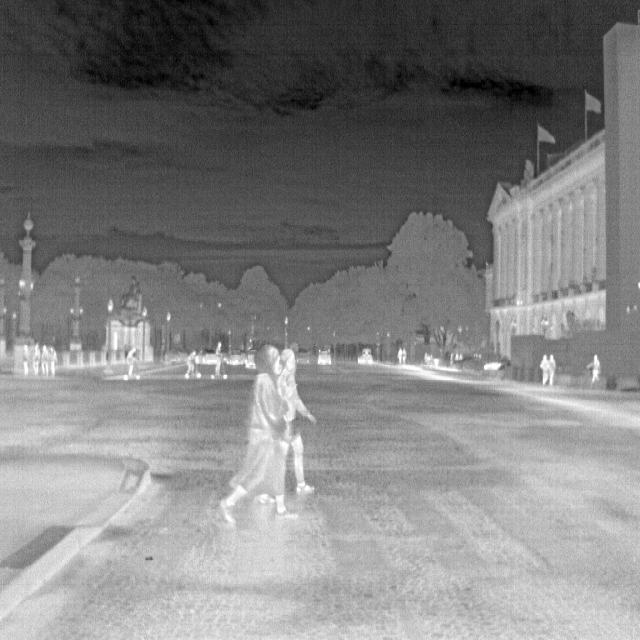Pedestrian: (217, 346, 296, 528), (258, 347, 318, 506), (211, 341, 228, 380), (122, 347, 142, 380), (184, 349, 202, 380), (584, 354, 600, 384), (547, 353, 557, 388), (48, 346, 57, 378), (32, 343, 41, 374), (22, 344, 30, 376), (40, 344, 47, 374)
